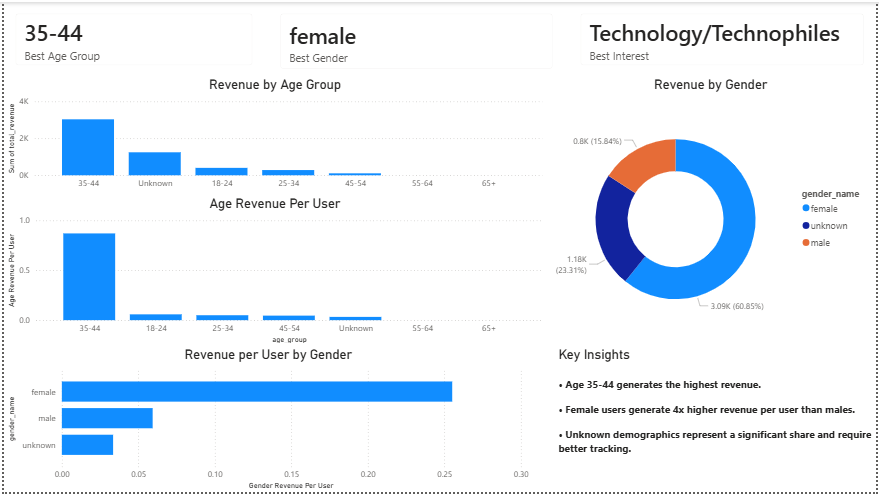

The dashboard page shown, as its layout file describes it:
{"tool":"powerbi","page":{"name":"Audience Intelligence","canvas":[1280,720],"ordinal":2},"visuals":[{"type":"clusteredColumnChart","title":"Revenue by Age Group","fields":{"Category":["dim_age.age_group"],"Y":["Sum(fact_age.total_revenue)"]},"box":[0,110.7,796.2,174.4],"z":0},{"type":"columnChart","title":"Age Revenue Per User","fields":{"Category":["dim_age.age_group"],"Y":["Measures (2).Age Revenue Per User"]},"box":[0,285.1,796.2,221.4],"z":1000},{"type":"donutChart","title":"Revenue by Gender","fields":{"Category":["dim_gender.gender_name"],"Y":["Sum(fact_gender.total_revenue)"]},"box":[796.2,110.7,483.8,395.8],"z":2000},{"type":"barChart","title":"Revenue per User by Gender","fields":{"Category":["dim_gender.gender_name"],"Y":["Measures (2).Gender Revenue Per User"]},"box":[0,506.5,776.5,213.8],"z":3000},{"type":"textbox","title":"Key Insights","box":[809.9,506.5,470.1,213.8],"z":4000},{"type":"cardVisual","title":"Best Age Group","fields":{"Data":["Measures (2).Best Age Group"]},"box":[0,0,382.2,110.7],"z":5000},{"type":"cardVisual","title":"Best Gender","fields":{"Data":["Measures (2).Best Gender"]},"box":[382.2,0,447.4,110.7],"z":6000},{"type":"cardVisual","title":"Best Interest","fields":{"Data":["Measures (2).Best Interest"]},"box":[829.6,0,450.4,110.7],"z":7000}]}

Visuals, with their boxes in screenshot pixels (x1, y1, x2, y2), scaled from the page's 1280x720 canvas onto the 879x496 screenshot:
"Revenue by Age Group" clusteredColumnChart: [left=0, top=76, right=547, bottom=196]
"Age Revenue Per User" columnChart: [left=0, top=196, right=547, bottom=349]
"Revenue by Gender" donutChart: [left=547, top=76, right=878, bottom=349]
"Revenue per User by Gender" barChart: [left=0, top=349, right=533, bottom=495]
"Key Insights" textbox: [left=556, top=349, right=878, bottom=495]
"Best Age Group" cardVisual: [left=0, top=0, right=262, bottom=76]
"Best Gender" cardVisual: [left=262, top=0, right=570, bottom=76]
"Best Interest" cardVisual: [left=570, top=0, right=878, bottom=76]
